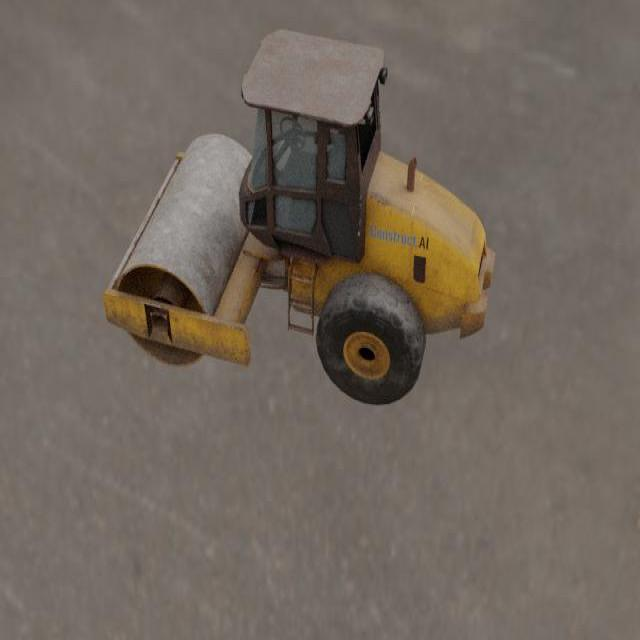Roller: (102, 28, 495, 405)
